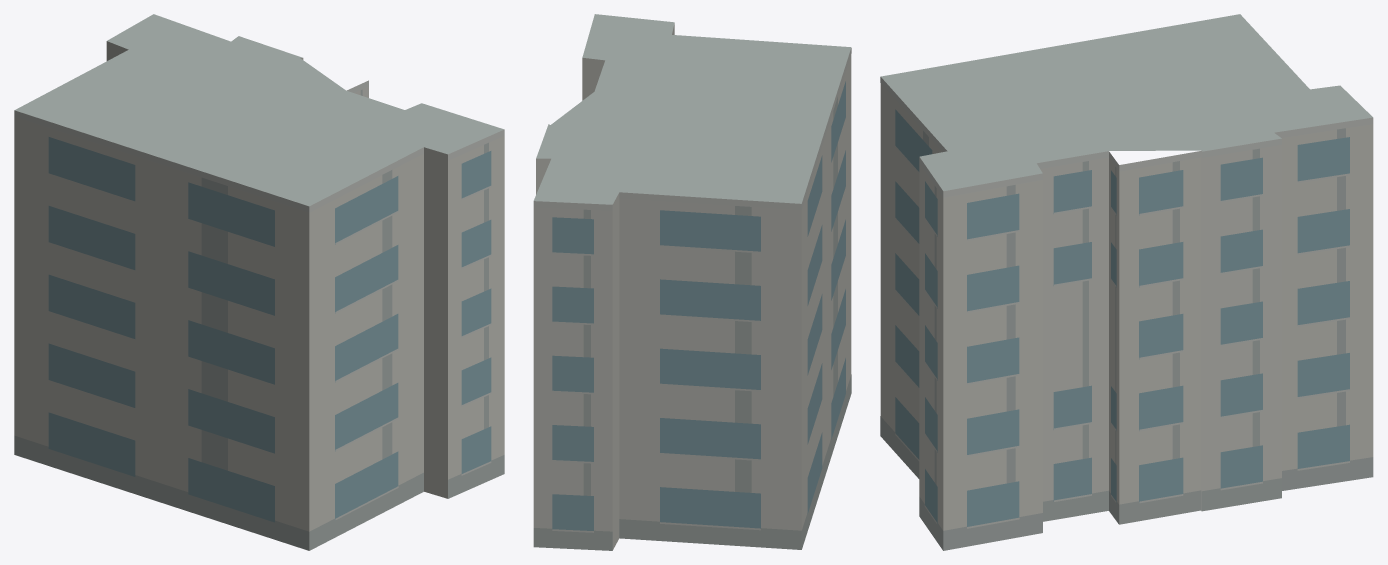
The model's file is survey-upis-32893271.glb.
The picture shows the model from 3 angles, left to right: view 1: azimuth 30°, elevation 25°; view 2: azimuth 150°, elevation 25°; view 3: azimuth 270°, elevation 25°; orthographic projection. The views are drawn at different scales.
Parts seen in each view (by area): view 1: survey-upis-32893271.tmp; view 2: survey-upis-32893271.tmp; view 3: survey-upis-32893271.tmp.
Part boxes in pixels (x1,y1,x2,y2): survey-upis-32893271.tmp: (14,14,504,550); survey-upis-32893271.tmp: (533,14,851,550); survey-upis-32893271.tmp: (880,14,1373,550).
Size of the model in its own units: 14.34 by 13.55 by 16.84.
